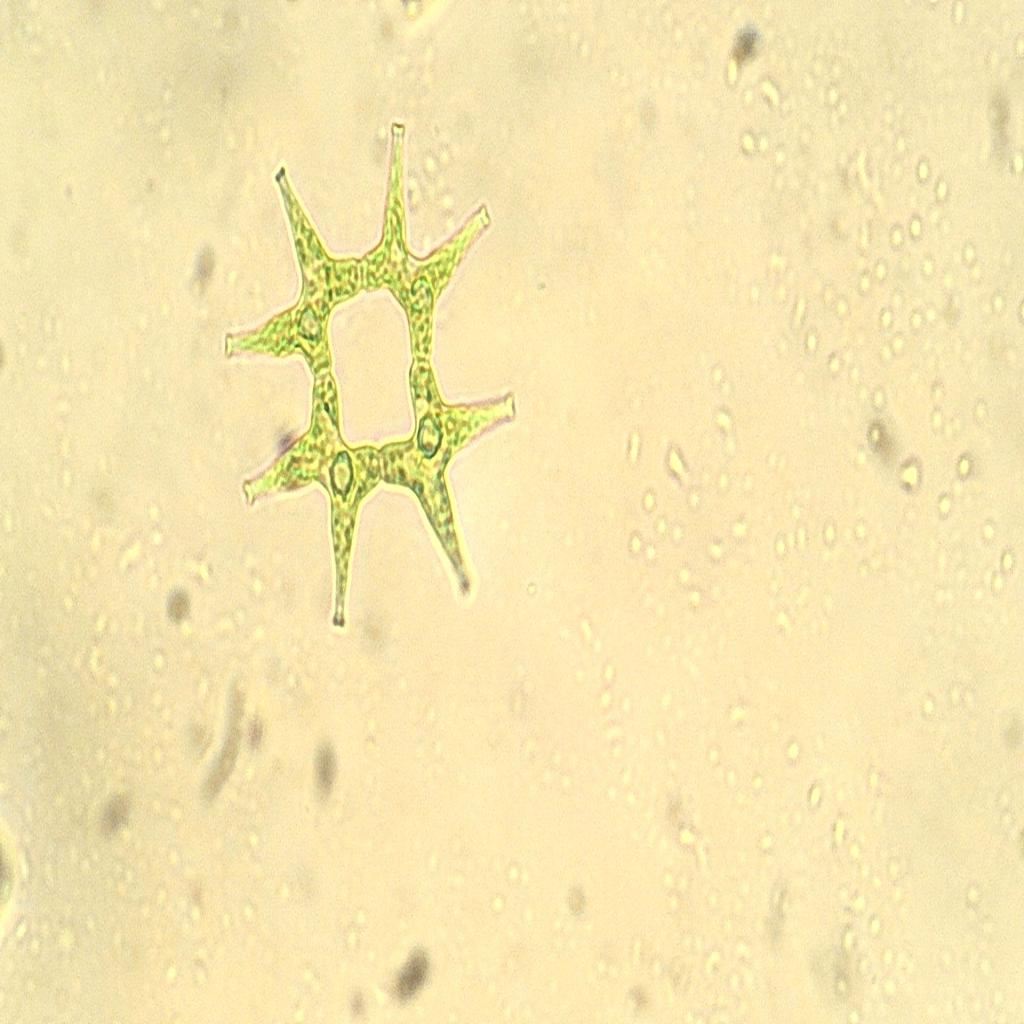Pediastrum_75O: (210, 90, 537, 648)
